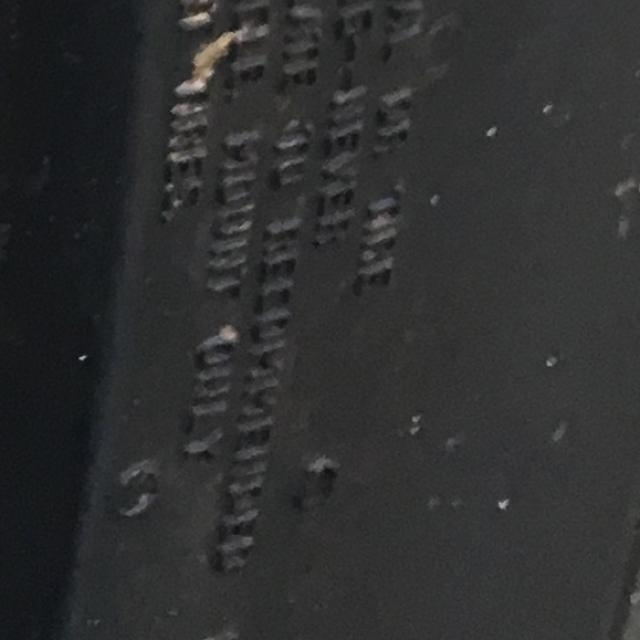Non-defective: (0, 0, 574, 640)
